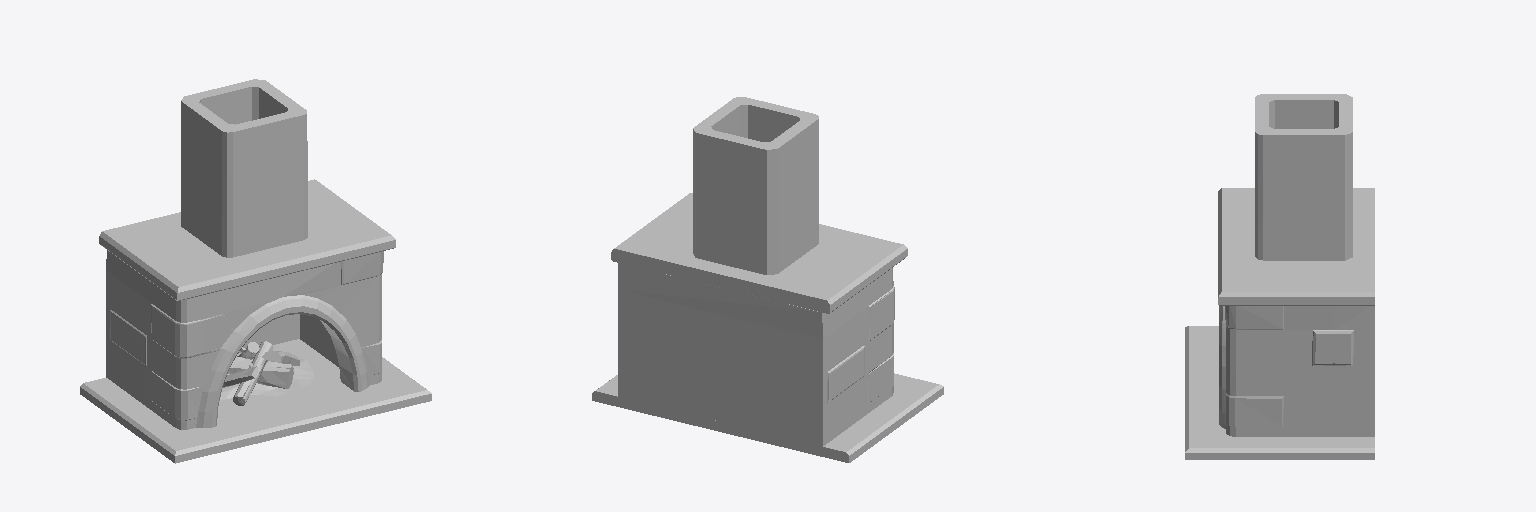
The model's file is fireplace.obj.
3 views of the same model, side by side, from view 1: azimuth 30°, elevation 25°; view 2: azimuth 150°, elevation 25°; view 3: azimuth 270°, elevation 25° (orthographic).
Parts seen in each view (by area): view 1: fireplace_noFireWood, firewood_separate; view 2: fireplace_noFireWood; view 3: fireplace_noFireWood.
Boxes of the visible parts, x1=… form: fireplace_noFireWood: x1=80, y1=79, x2=431, y2=463; firewood_separate: x1=223, y1=341, x2=299, y2=405; fireplace_noFireWood: x1=592, y1=97, x2=943, y2=462; fireplace_noFireWood: x1=1185, y1=94, x2=1374, y2=459.
Size of the model in its own units: 1.91 by 2.01 by 1.22.